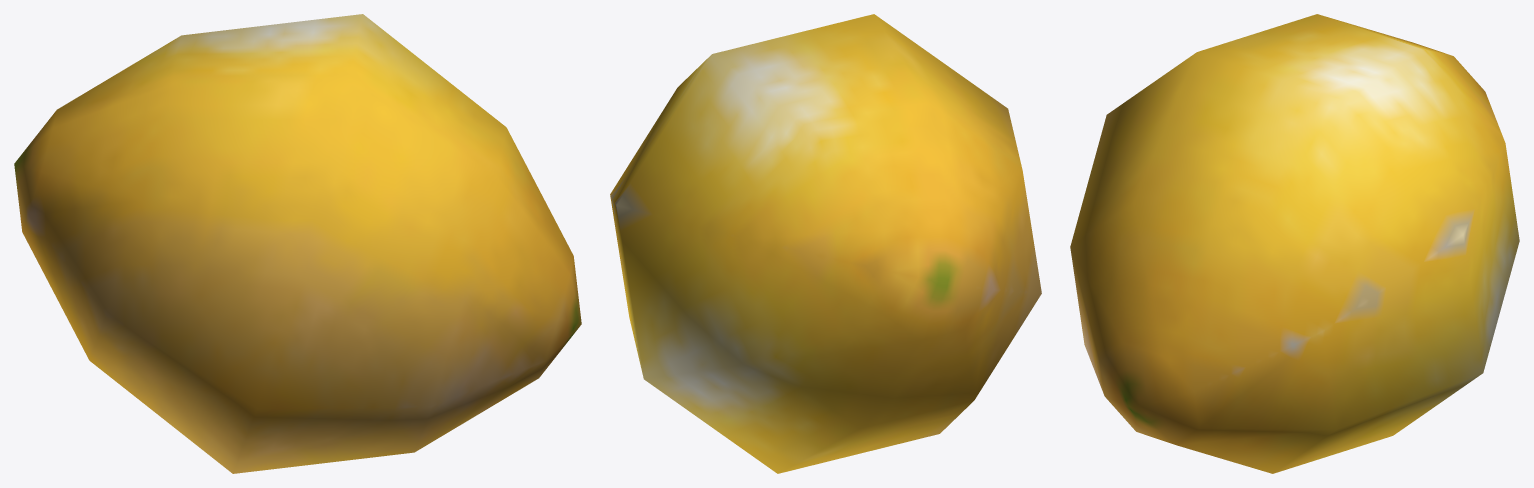
3 views of the same model, side by side, from view 1: azimuth 30°, elevation 25°; view 2: azimuth 150°, elevation 25°; view 3: azimuth 270°, elevation 25° (orthographic). The views are drawn at different scales.
Visible parts, largest first — view 1: Lemon; view 2: Lemon; view 3: Lemon.
Boxes of the visible parts, x1,y1,x2,y2 form: Lemon: (14,14,581,473); Lemon: (610,14,1041,473); Lemon: (1070,14,1519,473).
Size of the model in its own units: 21.76 by 18.78 by 19.88.
1 material, 1 textured.
